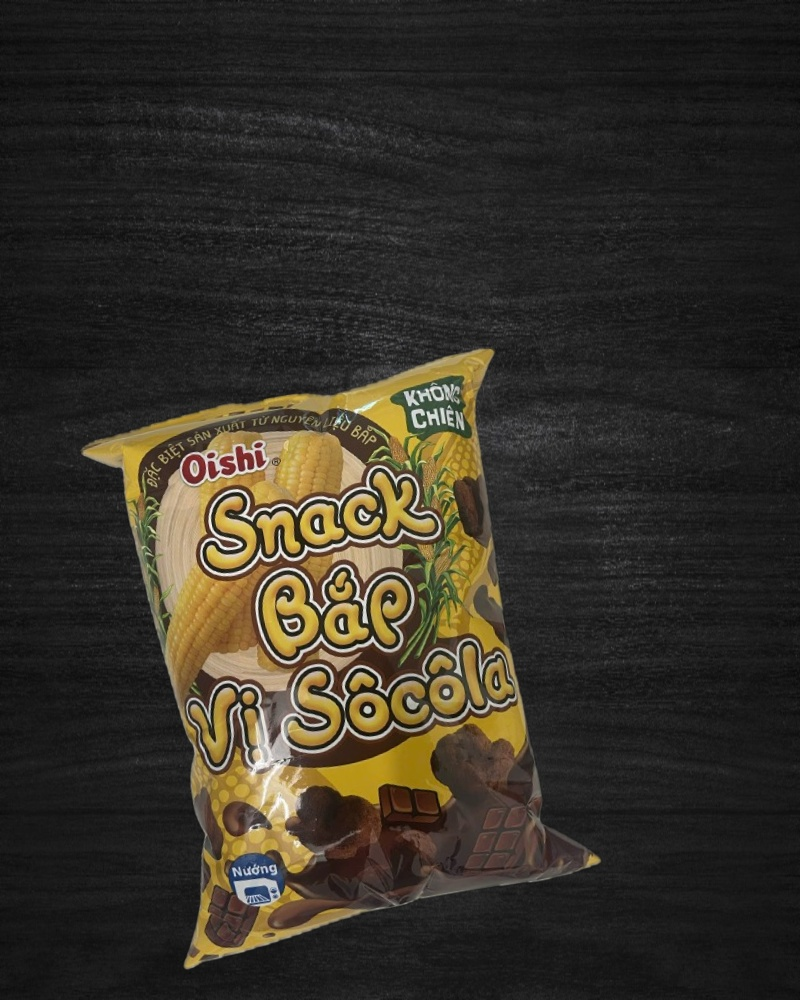Snack socola: (78, 347, 606, 960)
